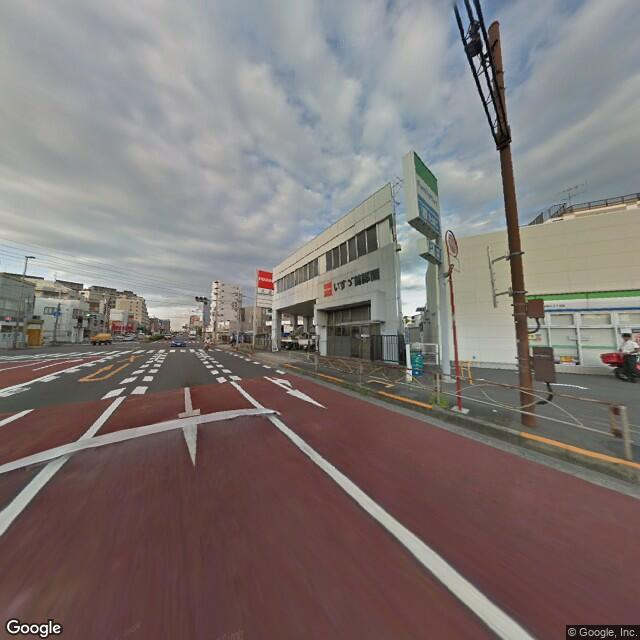family_mart: (526, 286, 638, 314), (414, 151, 442, 224)
